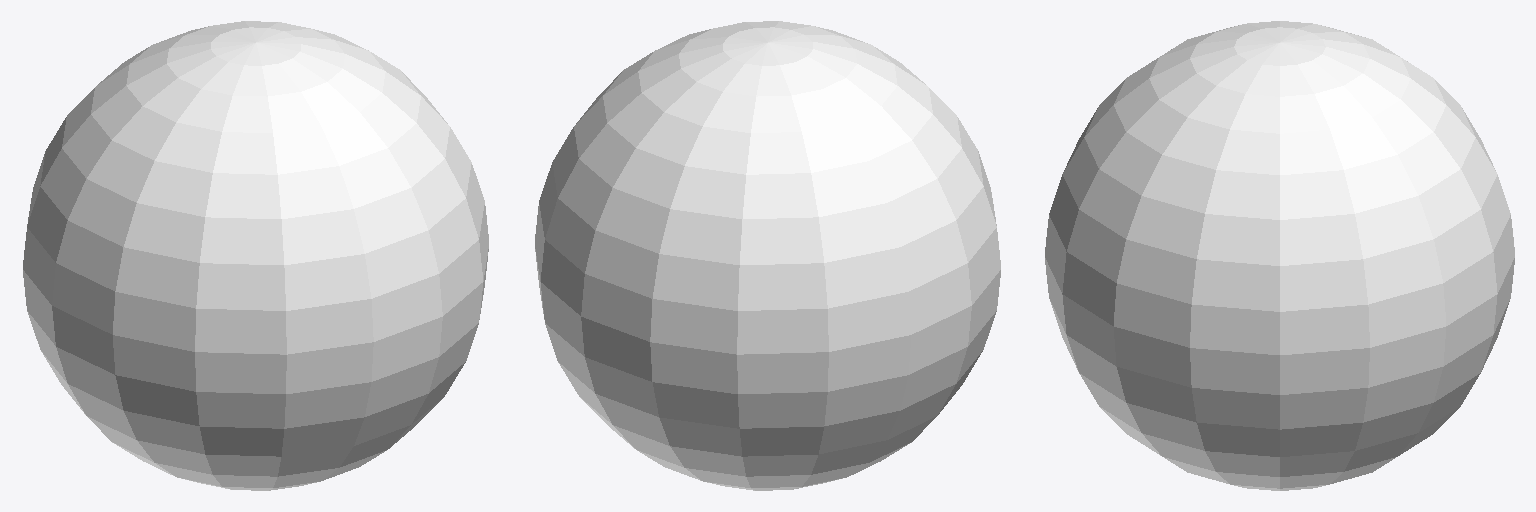
Rendered from bola.obj.
The picture shows the model from 3 angles: view 1: azimuth 30°, elevation 25°; view 2: azimuth 150°, elevation 25°; view 3: azimuth 270°, elevation 25°; orthographic projection.
Size of the model in its own units: 1 by 1 by 1.